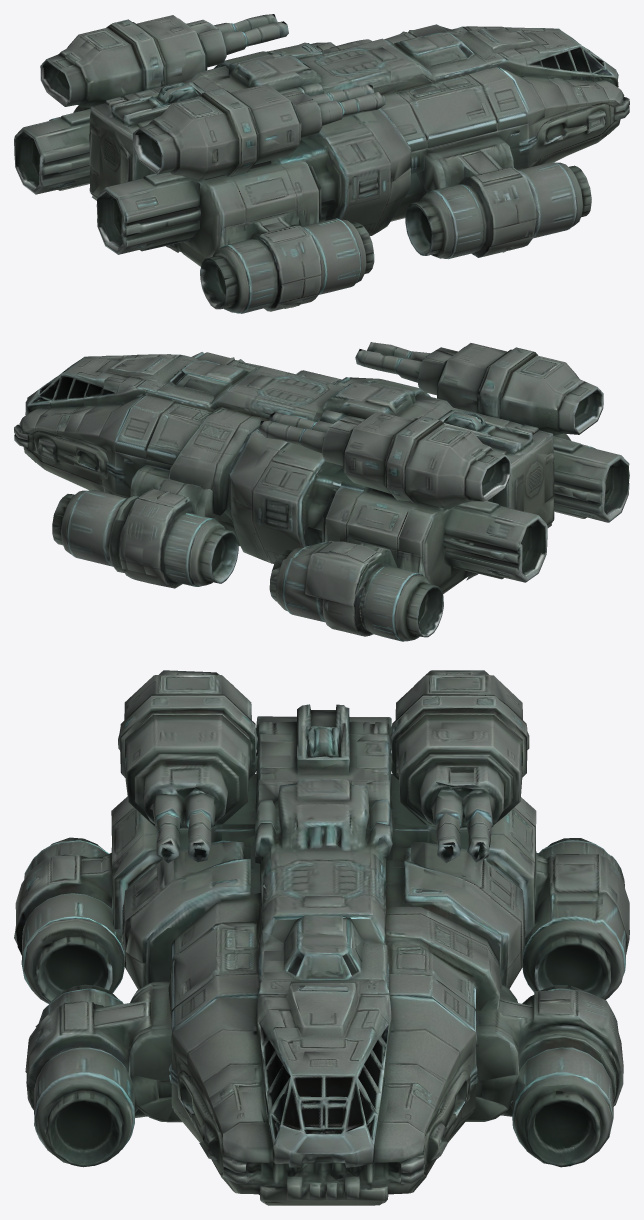
The model's file is Nave12.glb.
The picture shows the model from 3 angles, top to bottom: view 1: azimuth 30°, elevation 25°; view 2: azimuth 150°, elevation 25°; view 3: azimuth 270°, elevation 25°; orthographic projection. The views are drawn at different scales.
Visible parts, largest first — view 1: tripo_part_1, tripo_part_0, tripo_part_5, tripo_part_2, tripo_part_3, tripo_part_7, tripo_part_8, tripo_part_10, tripo_part_9, tripo_part_12, tripo_part_15; view 2: tripo_part_0, tripo_part_1, tripo_part_4, tripo_part_3, tripo_part_6, tripo_part_8, tripo_part_10, tripo_part_9, tripo_part_12, tripo_part_5, tripo_part_15; view 3: tripo_part_1, tripo_part_0, tripo_part_3, tripo_part_9, tripo_part_4, tripo_part_2, tripo_part_8, tripo_part_5, tripo_part_7, tripo_part_6, tripo_part_12, tripo_part_13 (+1 smaller).
Part boxes in pixels (x1,y1,x2,y2): tripo_part_1: (373, 24, 619, 221); tripo_part_0: (14, 14, 371, 194); tripo_part_5: (172, 108, 411, 266); tripo_part_2: (405, 136, 591, 259); tripo_part_3: (89, 32, 472, 252); tripo_part_7: (200, 208, 374, 313); tripo_part_8: (133, 84, 322, 181); tripo_part_10: (96, 172, 200, 254); tripo_part_9: (505, 27, 629, 134); tripo_part_12: (310, 84, 385, 125); tripo_part_15: (477, 28, 530, 44); tripo_part_0: (170, 405, 547, 594); tripo_part_1: (30, 352, 334, 546); tripo_part_4: (52, 464, 238, 588); tripo_part_3: (175, 360, 554, 580); tripo_part_6: (269, 520, 443, 641); tripo_part_8: (417, 343, 603, 435); tripo_part_10: (553, 435, 629, 522); tripo_part_9: (14, 354, 160, 462); tripo_part_12: (355, 342, 430, 382); tripo_part_5: (334, 377, 570, 440); tripo_part_15: (110, 356, 163, 372); tripo_part_1: (167, 877, 481, 1205); tripo_part_0: (385, 670, 536, 1010); tripo_part_3: (255, 704, 420, 974); tripo_part_9: (221, 1009, 427, 1205); tripo_part_4: (465, 985, 623, 1167); tripo_part_2: (25, 981, 172, 1167); tripo_part_8: (118, 670, 257, 828); tripo_part_5: (111, 774, 260, 989); tripo_part_7: (14, 837, 124, 1003); tripo_part_6: (522, 838, 629, 999); tripo_part_12: (152, 788, 216, 863); tripo_part_13: (273, 1132, 374, 1171).
Size of the model in its own units: 0.9823 by 0.3211 by 0.6704.
1 material, 1 textured.
